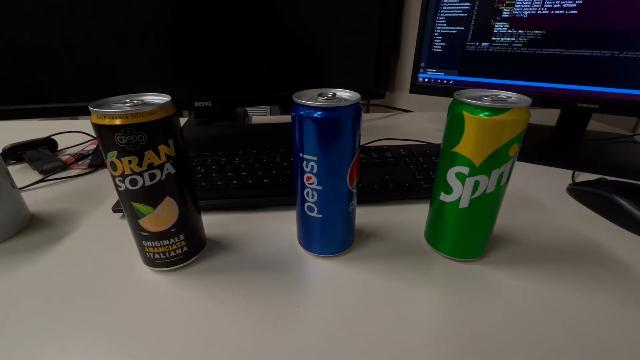OranSoda: (86, 91, 208, 273)
Pepsi: (290, 86, 364, 260)
Sprite: (422, 86, 534, 264)
